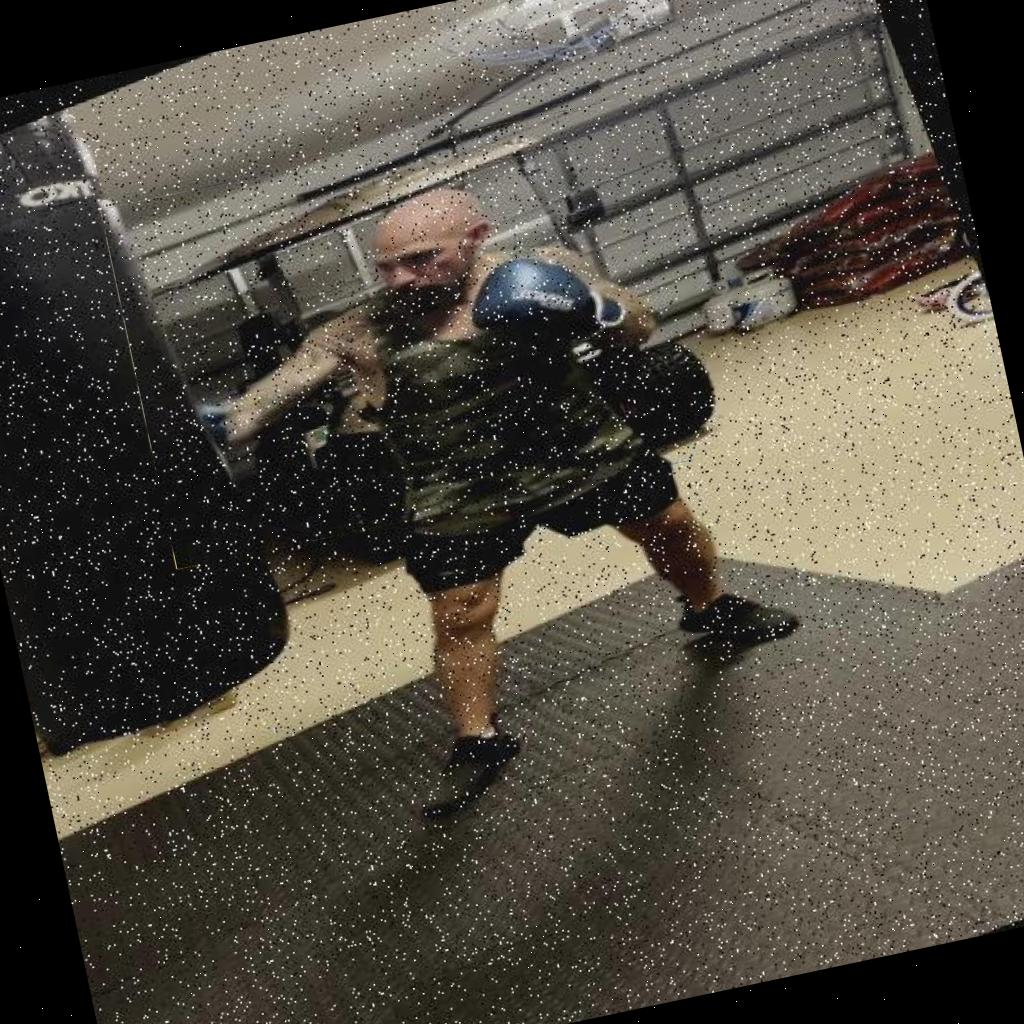jab: (100, 100, 695, 569)
